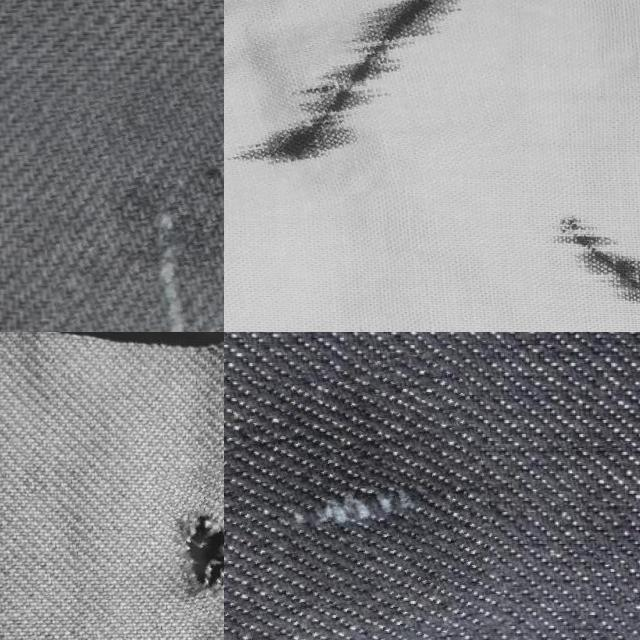Thread_other: (224, 0, 515, 204), (539, 173, 640, 332)
other: (161, 461, 224, 621)
stains: (224, 358, 498, 640), (37, 74, 224, 332)
